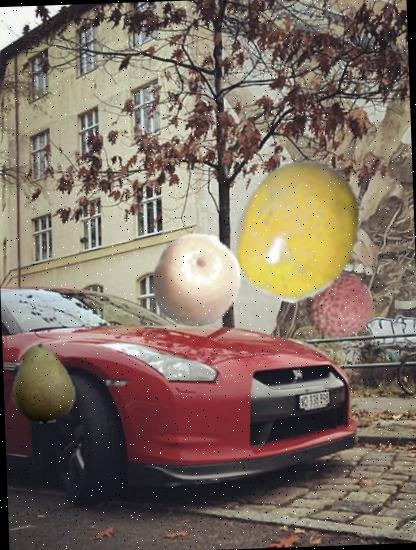Kumquats: (147, 231, 247, 331)
Lychee: (303, 270, 375, 342)
Maracuja: (225, 158, 374, 306)
Pear: (2, 342, 84, 424)
